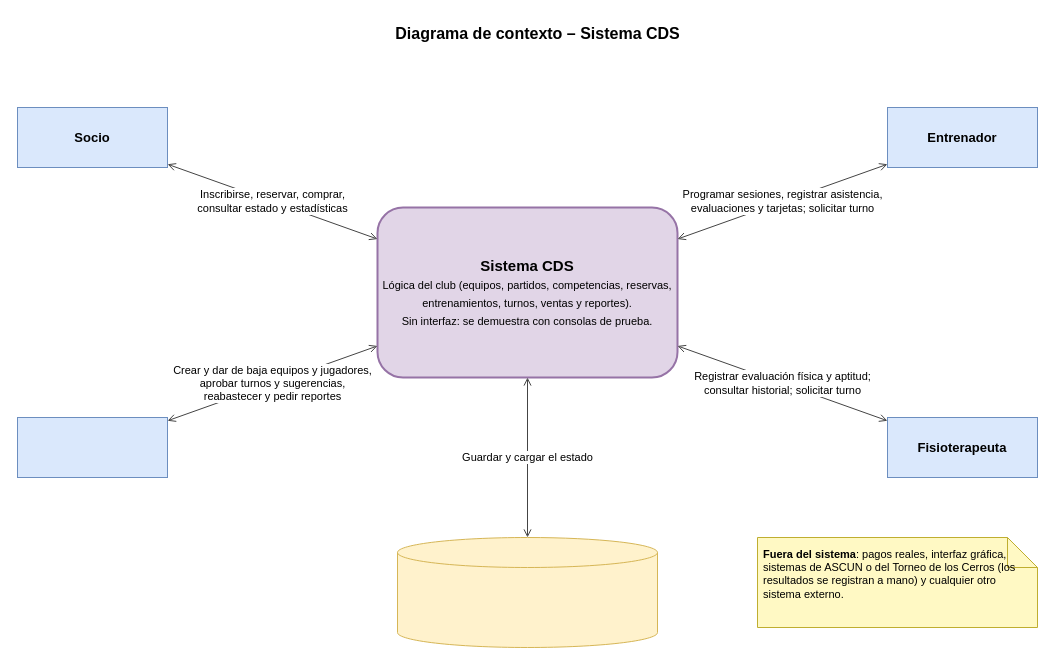
This 1055x665 diagram has some shape labels left out. Here are the shapes that lost their labels. From the top down, the centre of each, then its label:
point (92, 447): Administrador
point (527, 592): Carpeta de datos archivos de texto, fuera de la carpeta del código
